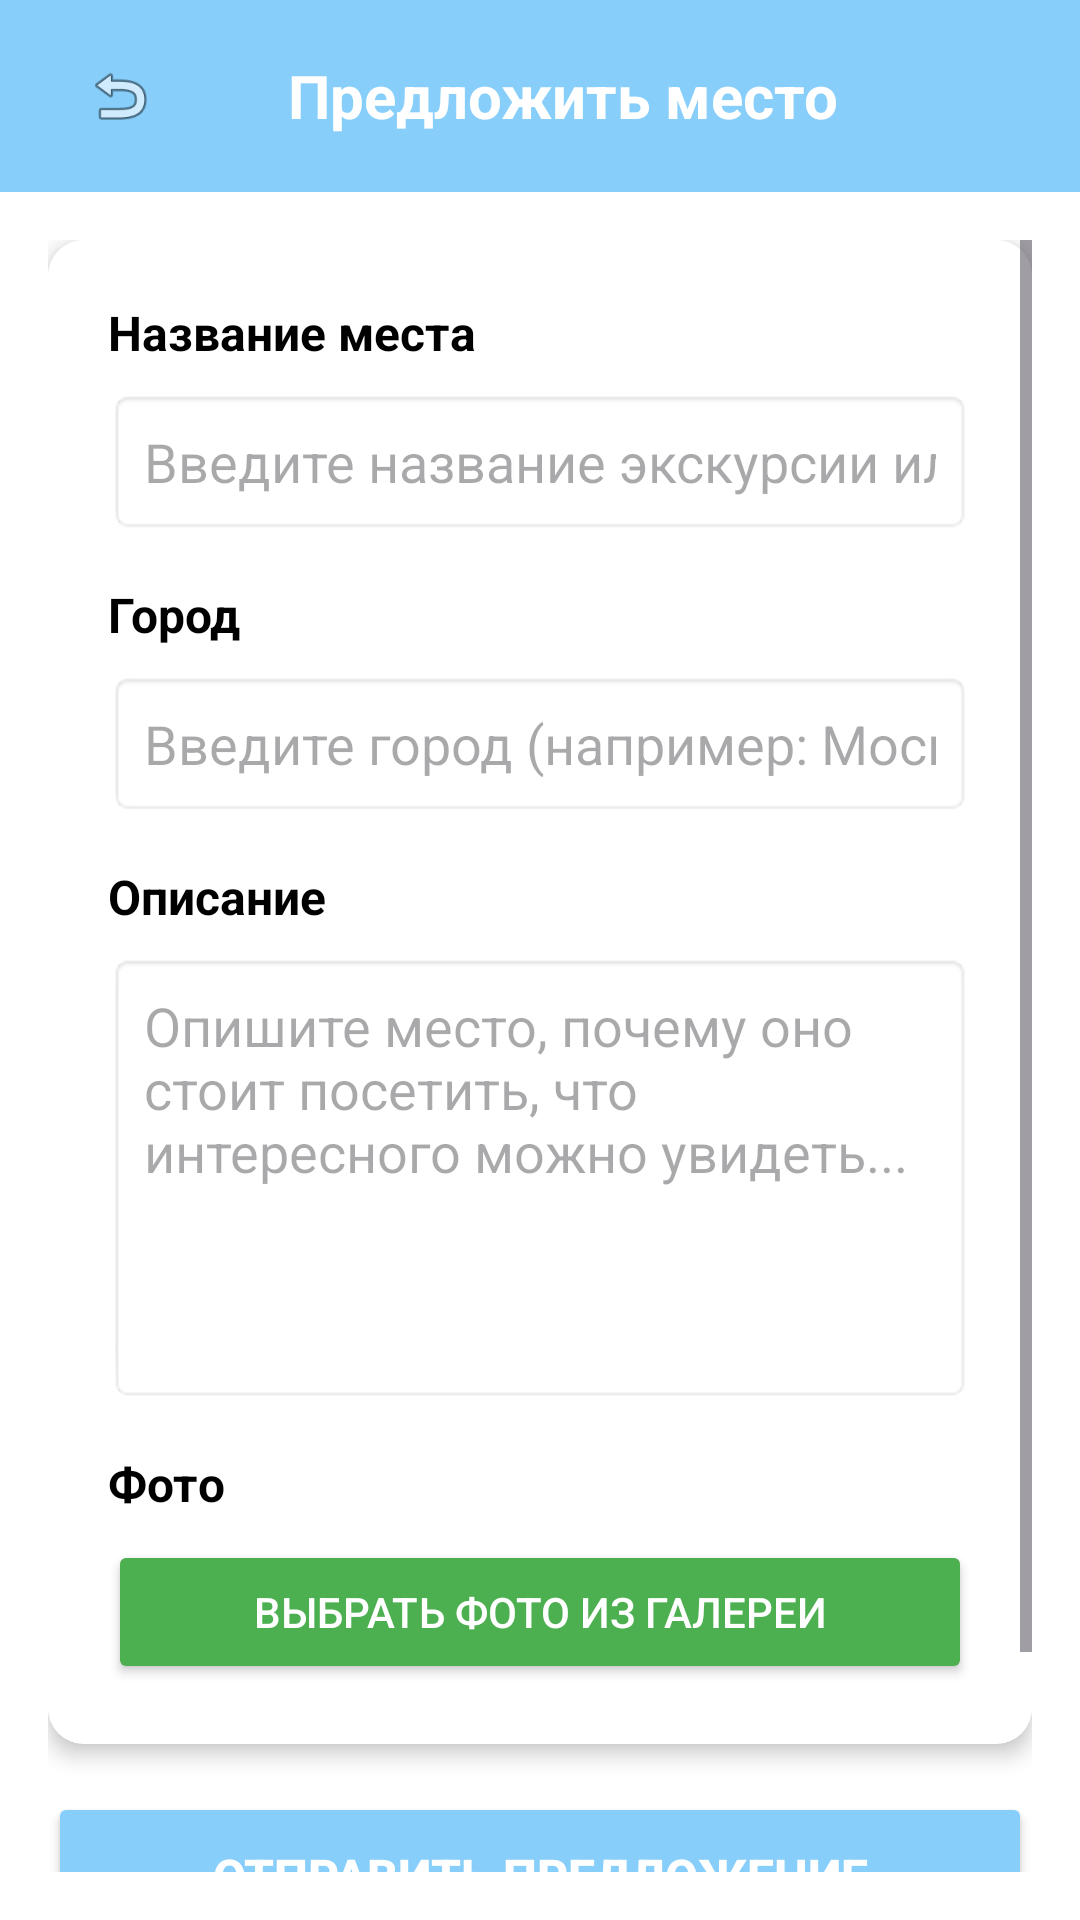

Icons on this 1080w x 1920h Android screen, each with the point to tap as (x,y):
Назад: (121,96)
